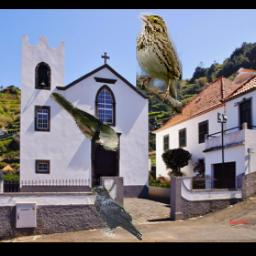Crow: (91, 186, 142, 241)
Cuckoo: (51, 93, 120, 152)
Sparrow: (136, 12, 182, 116)
